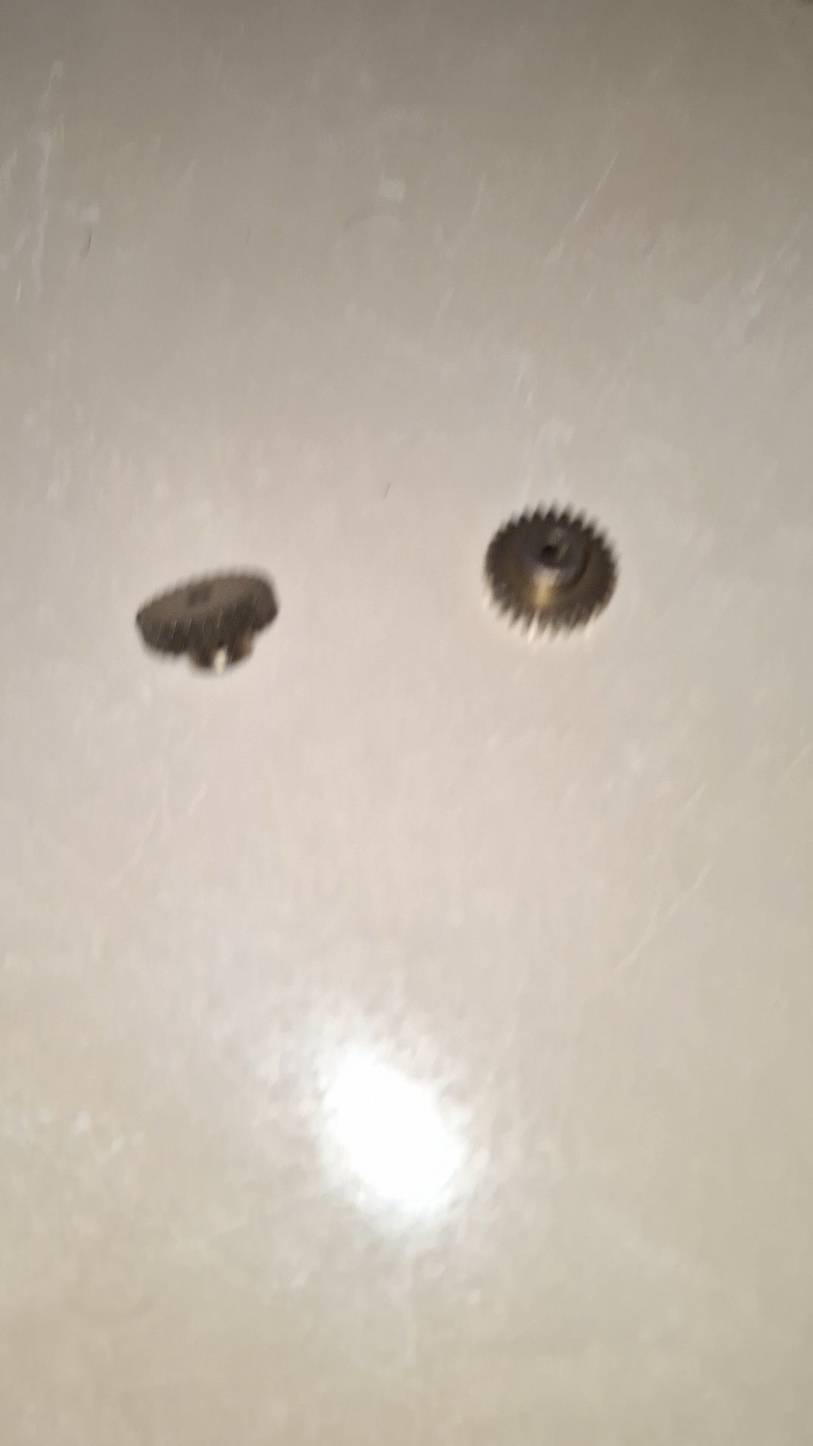spur gear: (486, 509, 615, 633), (137, 574, 277, 671)
